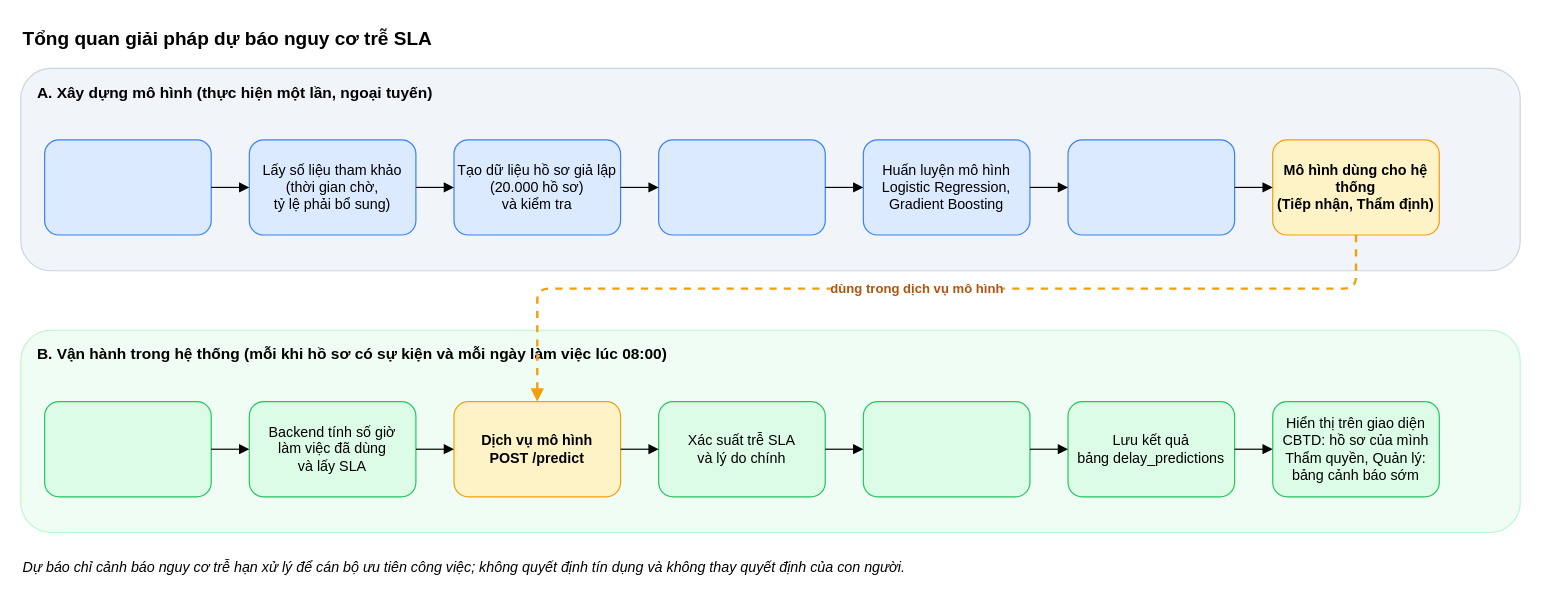
This 1541x606 diagram has some shape labels left out. Here are the shapes that lost their labels. From the top down, the centre of each, then its label:
At point (127, 187): "Dữ liệu tham khảo BPI Challenge 2012 (hồ sơ vay công khai)".
At point (741, 187): "Chuẩn bị dữ liệu huấn luyện gắn nhãn: hồ sơ trễ hay không trễ SLA".
At point (1151, 187): "Kiểm tra độ chính xác và chọn mô hình".
At point (127, 448): "Sự kiện hồ sơ (chuyển công đoạn, bổ sung, làm rõ) hoặc 08:00".
At point (946, 448): "Mức cảnh báo Bình thường · Chú ý (từ 35%) Khẩn (từ 60%) · Quá hạn".
